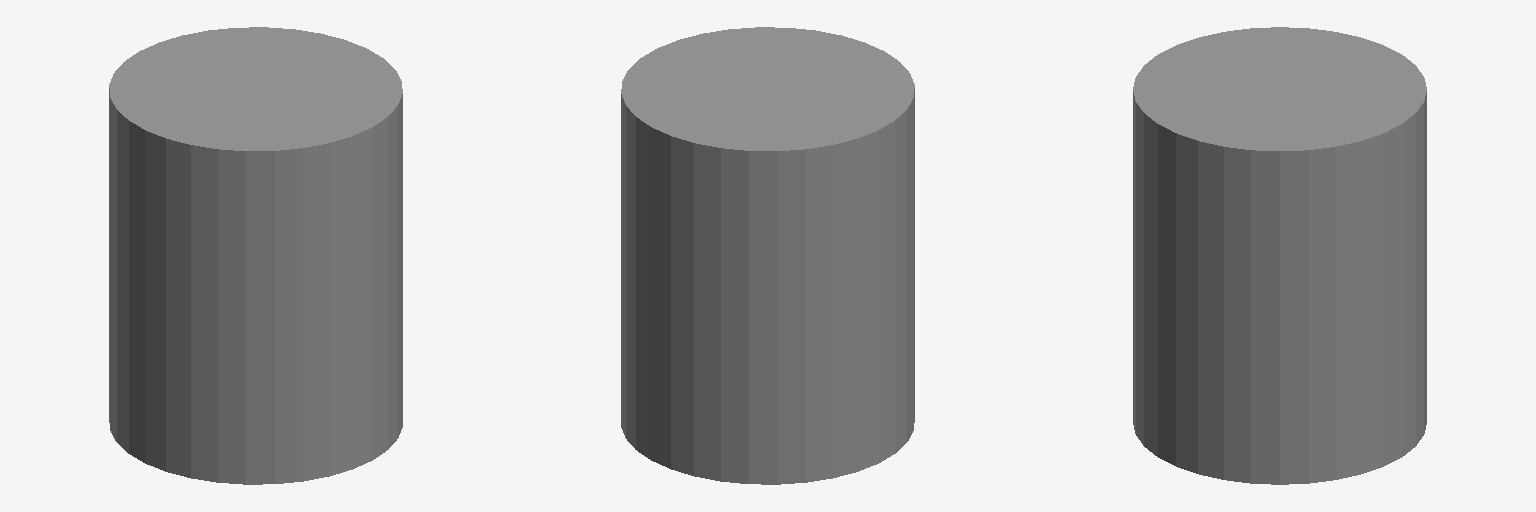
The model's file is jigcan.obj.
3 renders of one model, left to right at view 1: azimuth 30°, elevation 25°; view 2: azimuth 150°, elevation 25°; view 3: azimuth 270°, elevation 25°, orthographic.
Parts seen in each view (by area): view 1: Cylinder; view 2: Cylinder; view 3: Cylinder.
Part boxes in pixels (x1,y1,x2,y2): Cylinder: (109,27,402,484); Cylinder: (621,27,914,484); Cylinder: (1133,27,1426,484).
Size of the model in its own units: 2 by 2.5 by 2.